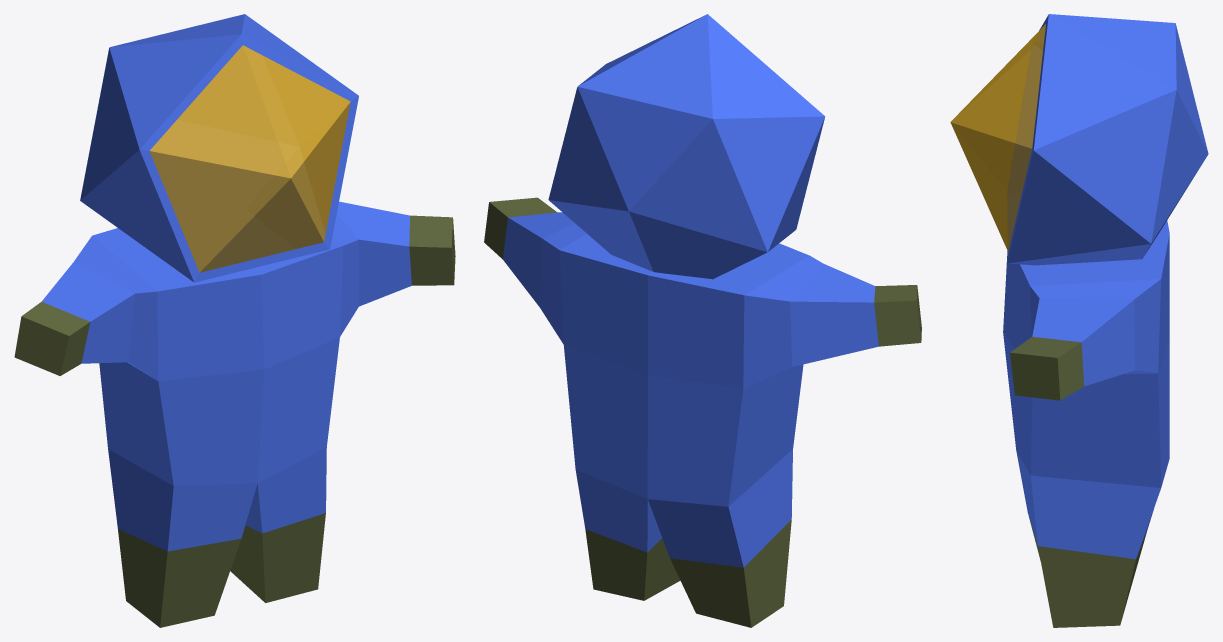
The model's file is AstronautBody.fbx.
The picture shows the model from 3 angles, left to right: view 1: azimuth 30°, elevation 25°; view 2: azimuth 150°, elevation 25°; view 3: azimuth 270°, elevation 25°; orthographic projection.
Visible parts, largest first — view 1: Player; view 2: Player; view 3: Player.
Part boxes in pixels (x1,y1,x2,y2): Player: (14, 14, 455, 627); Player: (484, 14, 921, 627); Player: (950, 14, 1208, 627).
Bounding box in the file's own units: 1.9 × 2.37 × 0.9636.
